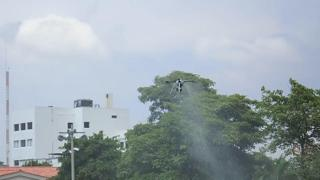UAV: (166, 79, 194, 96)
